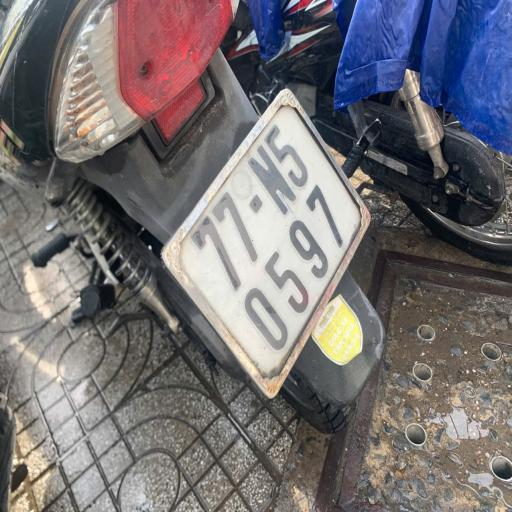0: (238, 280, 294, 358)
5: (265, 245, 316, 321), (267, 125, 312, 188)
7: (186, 216, 246, 302), (214, 189, 266, 273), (297, 180, 353, 256)
9: (280, 214, 332, 281)
N: (246, 144, 300, 218)
